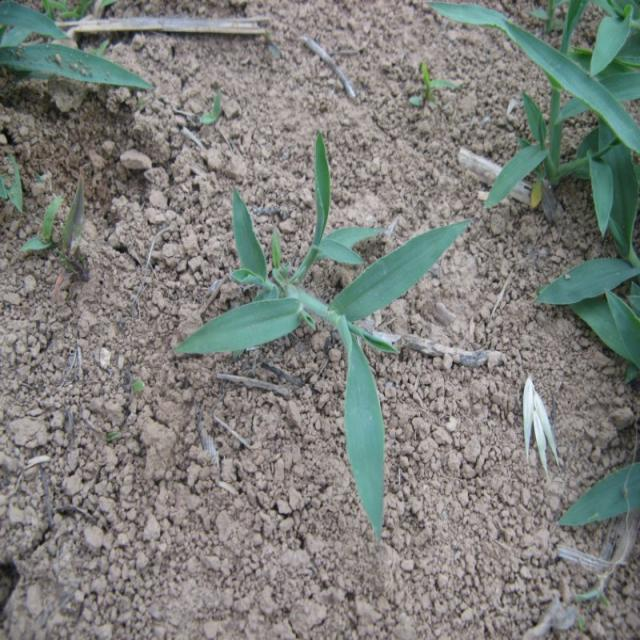bg: (174, 127, 473, 539)
